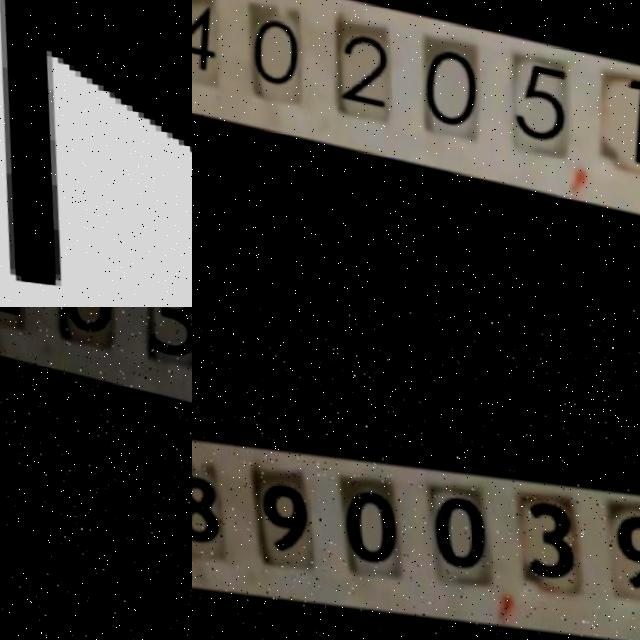0: (307, 452, 419, 584), (396, 460, 505, 584), (404, 27, 482, 134), (233, 0, 301, 95)
1: (581, 54, 640, 159)
2: (320, 14, 390, 111)
3: (484, 463, 593, 591), (117, 307, 192, 368)
4: (192, 0, 219, 82)
5: (495, 41, 572, 144)
6: (33, 307, 123, 342)
8: (192, 442, 235, 562)
9: (223, 450, 325, 570), (575, 474, 640, 600)
N: (0, 0, 192, 307)
